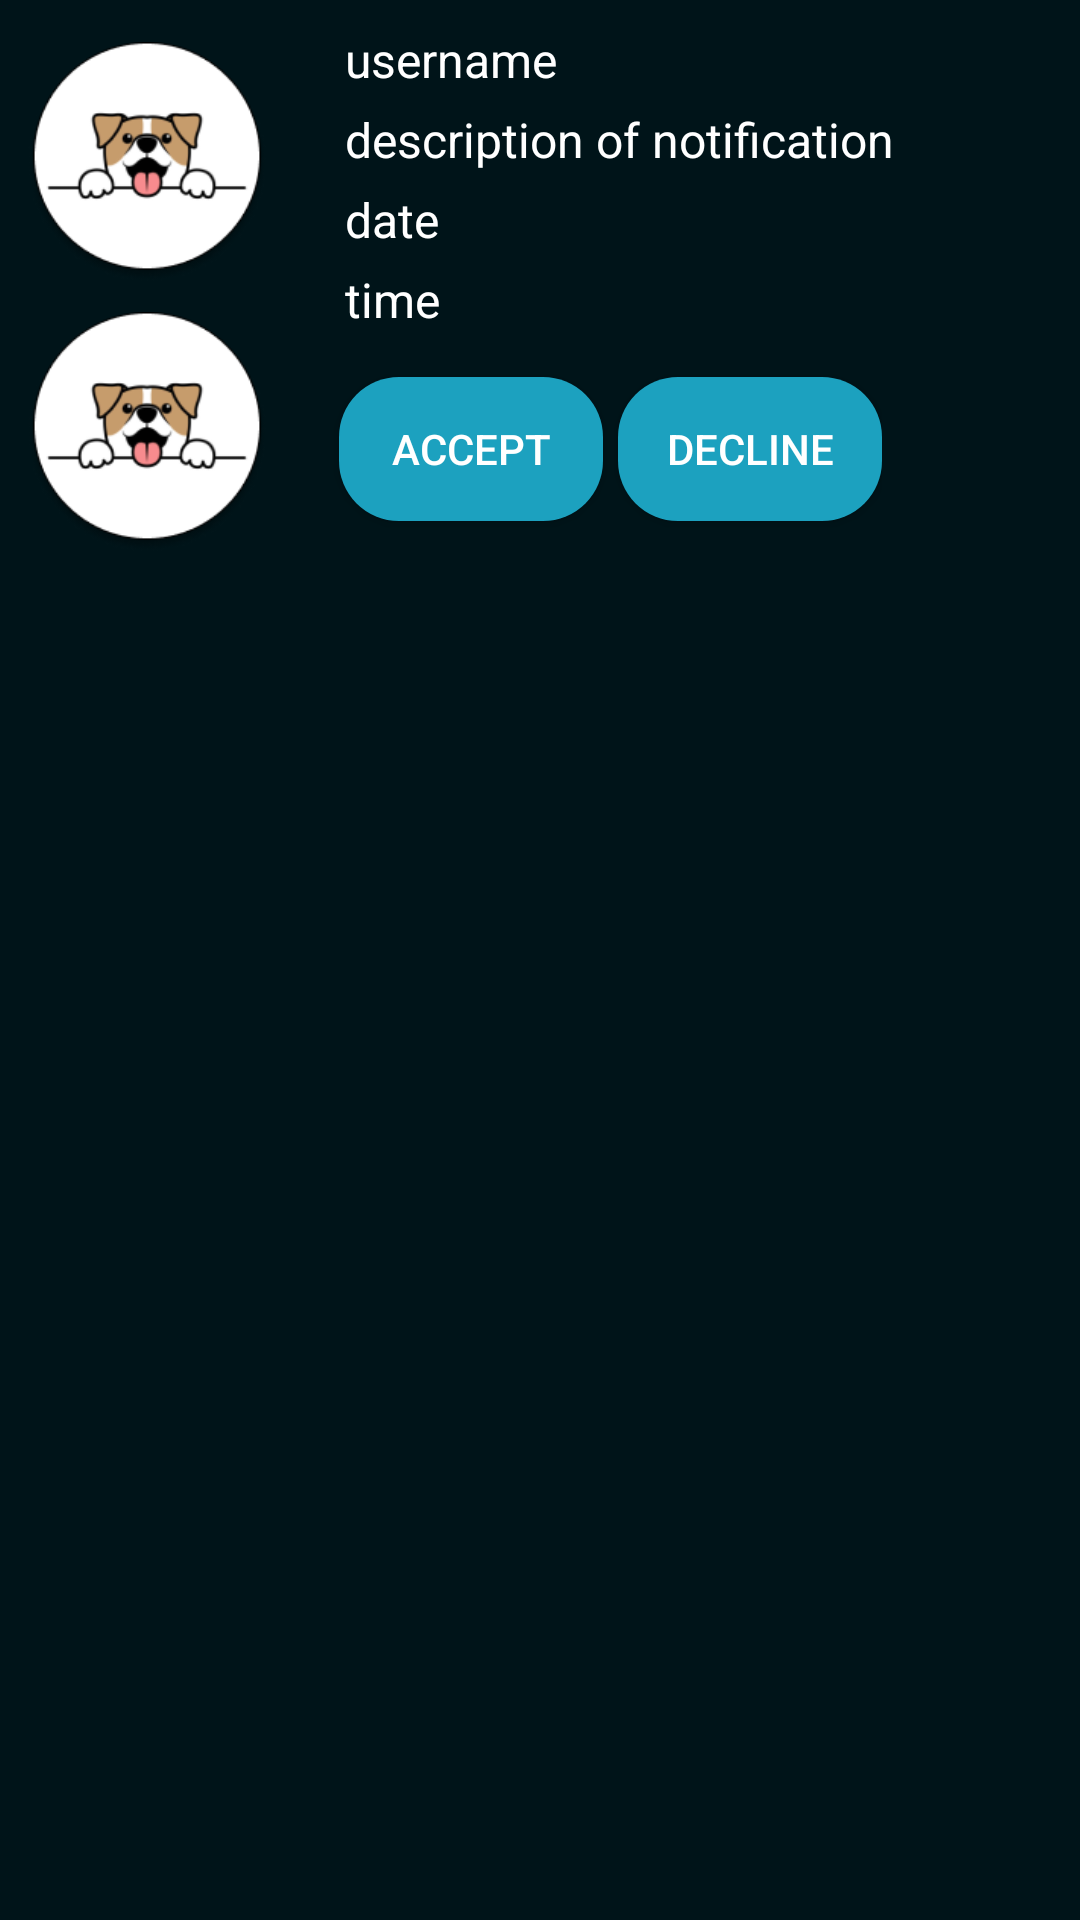

Point at icon controls on the screen. Image size 1080px x 1920px, points as (x,y).
littledog: (147,155), (147,425)
